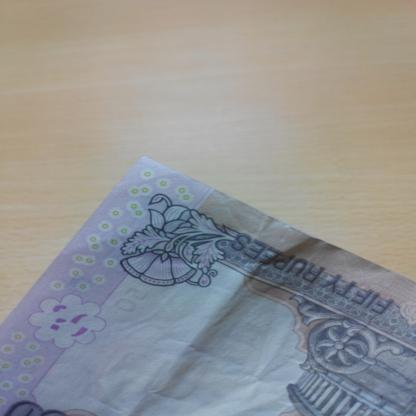Old50Back: (0, 156, 416, 416)
